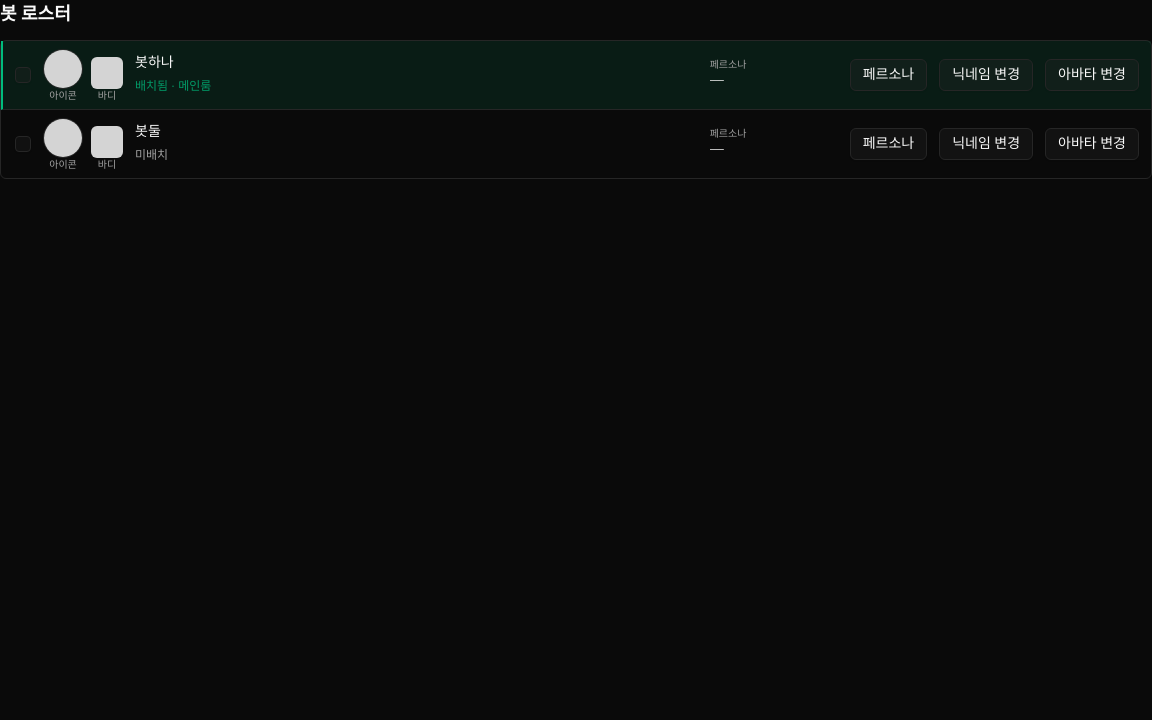
it: BotRoster › 개별 변경 버튼 → set 다이얼로그 오픈
The width and height of the screenshot is (1152, 720).
expect the text "봇하나" is shown: met, box [135,55,174,70]
Click the button "아바타 변경" in the row of "봇하나": point(1092, 75) [1045,59,1139,91]
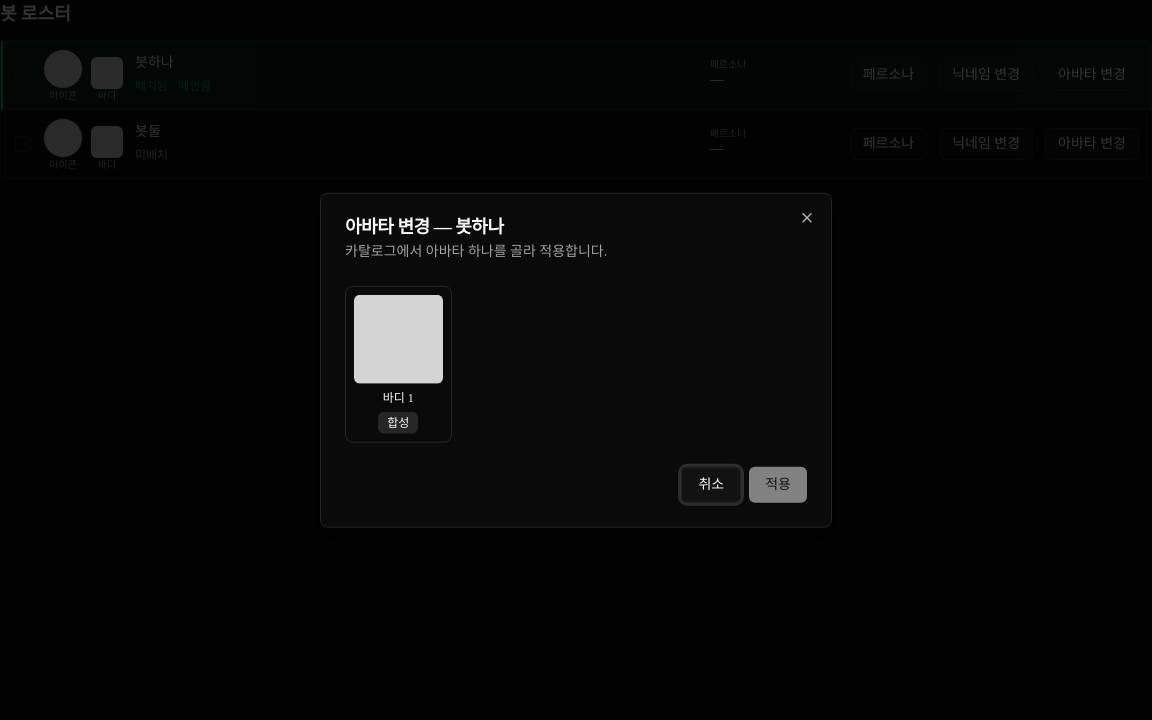
expect the heading "아바타 변경 — 봇하나" is shown: met, box [345,217,504,237]
